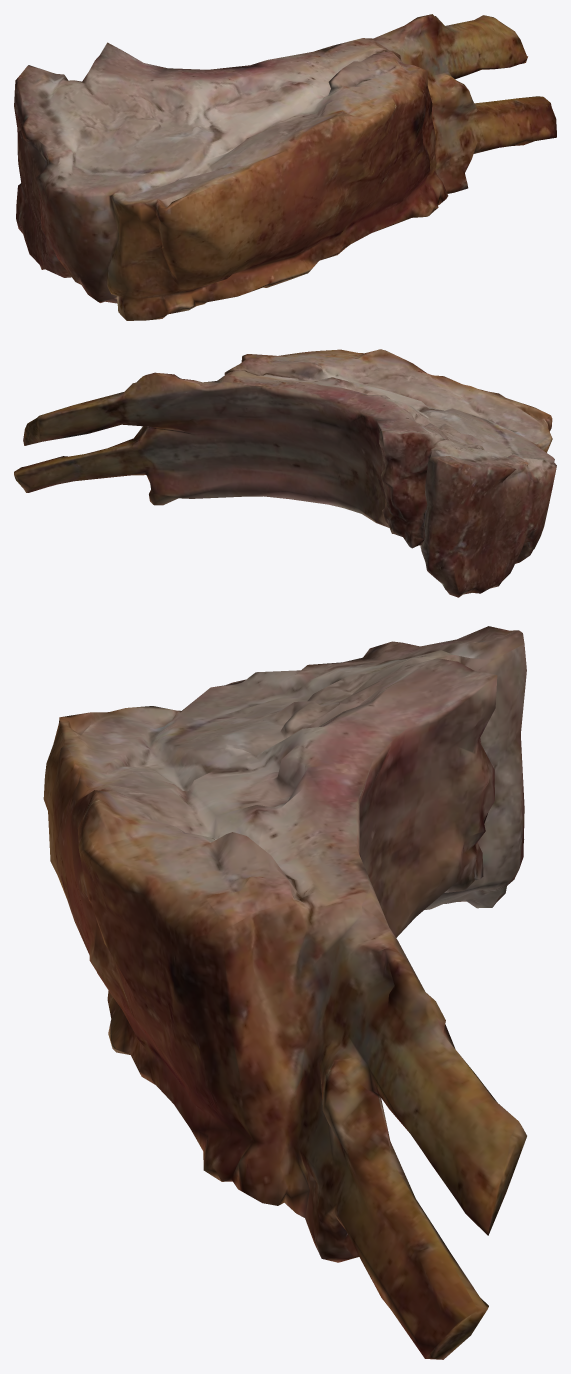
File: meat_c.glb
3 renders of one model, top to bottom at view 1: azimuth 30°, elevation 25°; view 2: azimuth 150°, elevation 25°; view 3: azimuth 270°, elevation 25°, orthographic. The views are drawn at different scales.
Parts seen in each view (by area): view 1: wktqbjzs_LOD0_TIER2_000; view 2: wktqbjzs_LOD0_TIER2_000; view 3: wktqbjzs_LOD0_TIER2_000.
Part boxes in pixels (box(x1,y1,x2,y2)): wktqbjzs_LOD0_TIER2_000: box(14, 14, 556, 320); wktqbjzs_LOD0_TIER2_000: box(14, 349, 556, 597); wktqbjzs_LOD0_TIER2_000: box(43, 626, 526, 1359).
Bounding box in the file's own units: 0.1445 × 0.0471 × 0.0621.
Materials: 1 (1 with a texture image).
